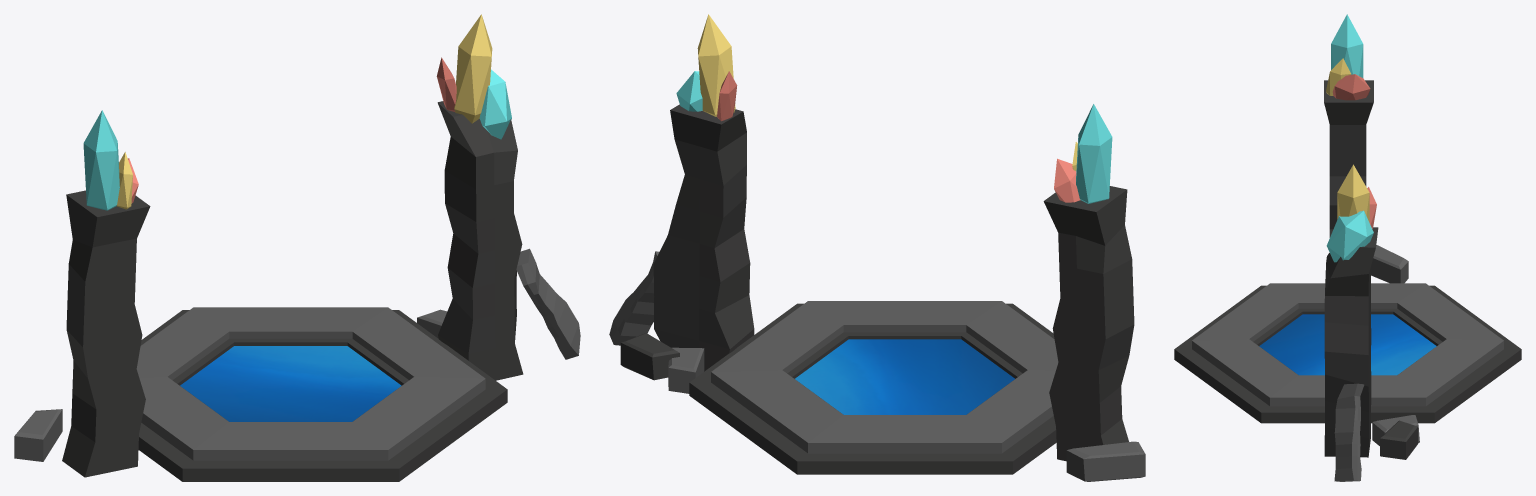
Rendered from GateRedesigned.fbx.
3 renders of one model, left to right at view 1: azimuth 30°, elevation 25°; view 2: azimuth 150°, elevation 25°; view 3: azimuth 270°, elevation 25°, orthographic. The views are drawn at different scales.
Visible parts, largest first — view 1: Icosphere.005; view 2: Icosphere.005; view 3: Icosphere.005.
Part boxes in pixels (box(x1,y1,x2,y2)): Icosphere.005: box(14, 14, 580, 481); Icosphere.005: box(609, 14, 1145, 481); Icosphere.005: box(1174, 14, 1521, 481).
Size of the model in its own units: 303 by 188 by 206.
